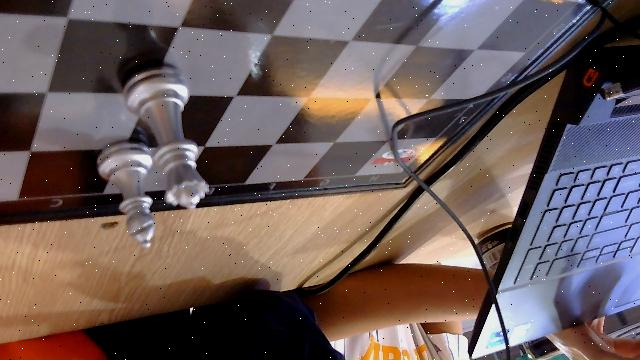black_queen: (157, 67, 208, 209)
white_bishop: (95, 140, 154, 250)
